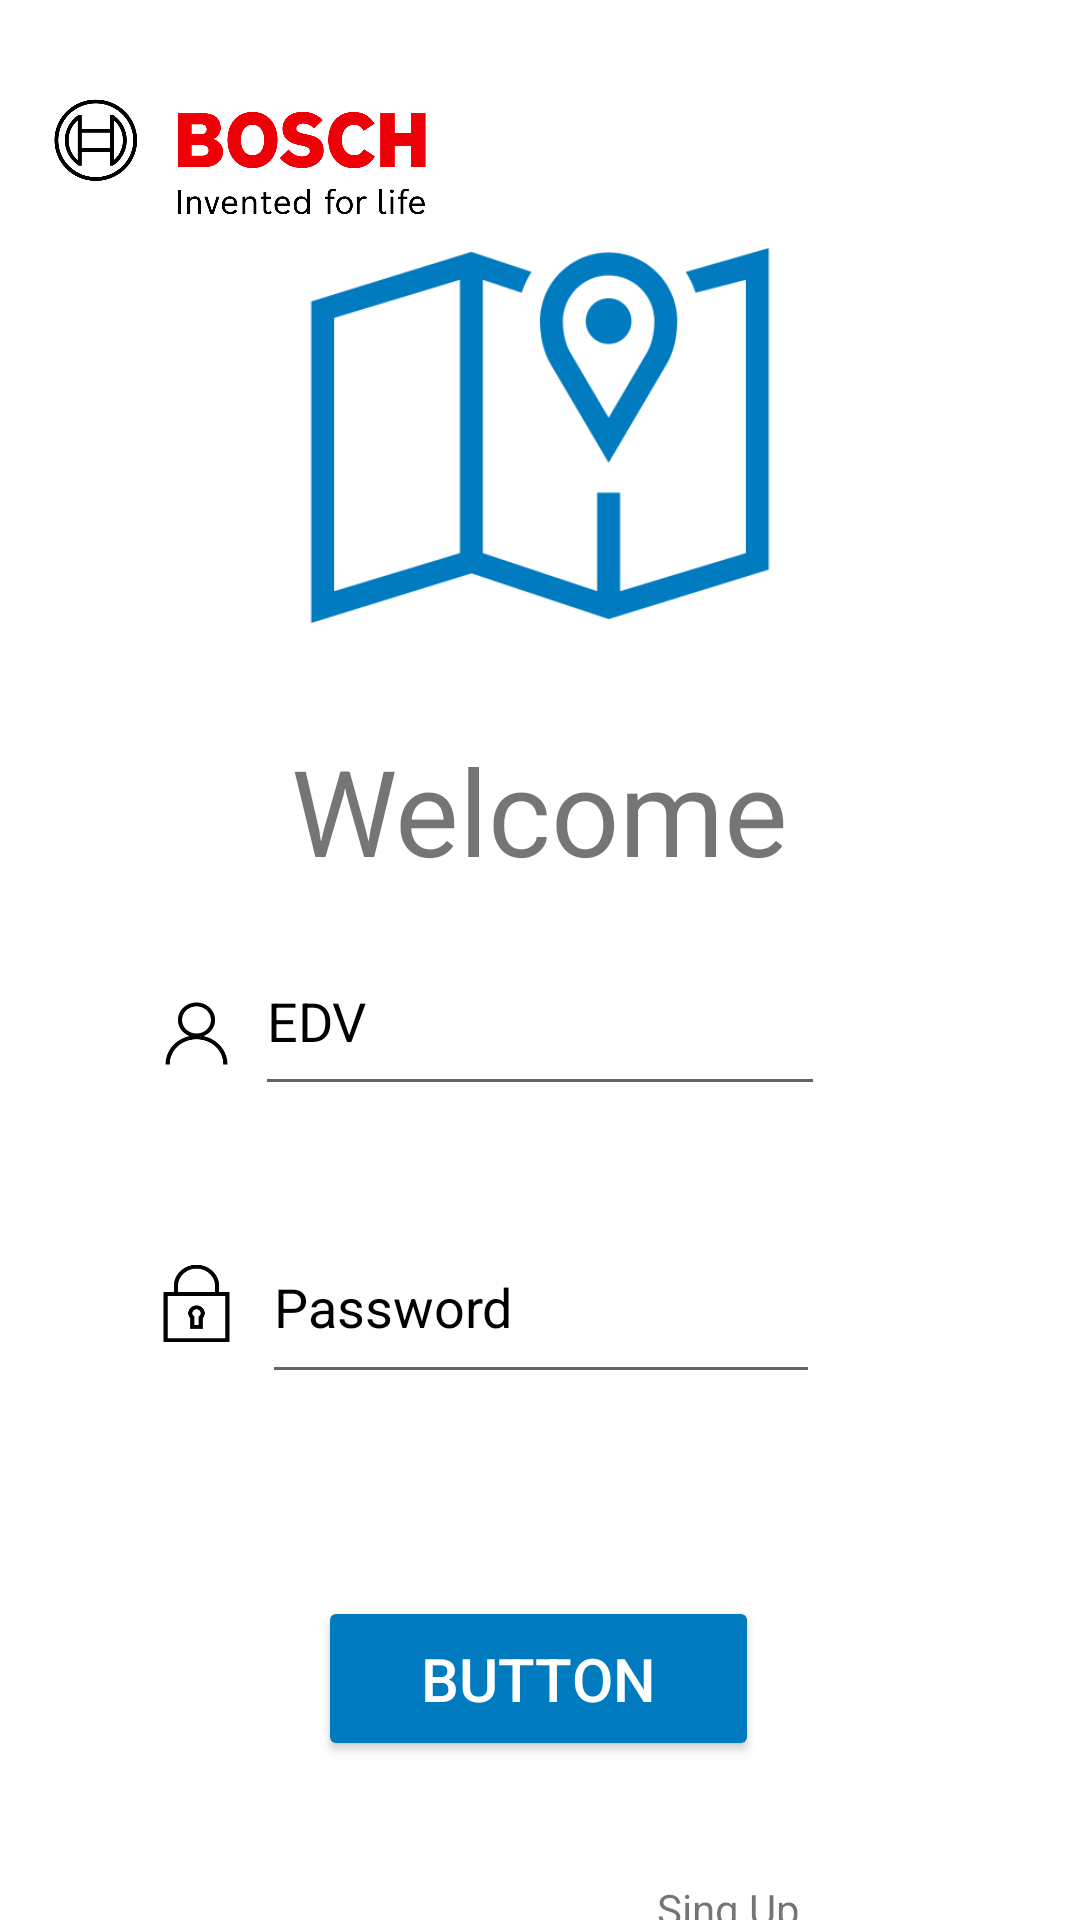

Named icons in this screenshot (1080px x 1920px) and their bounding boxes, (x1, y1, x2, y2):
lockclosed: (163, 1265, 230, 1342)
user: (165, 1002, 228, 1065)
